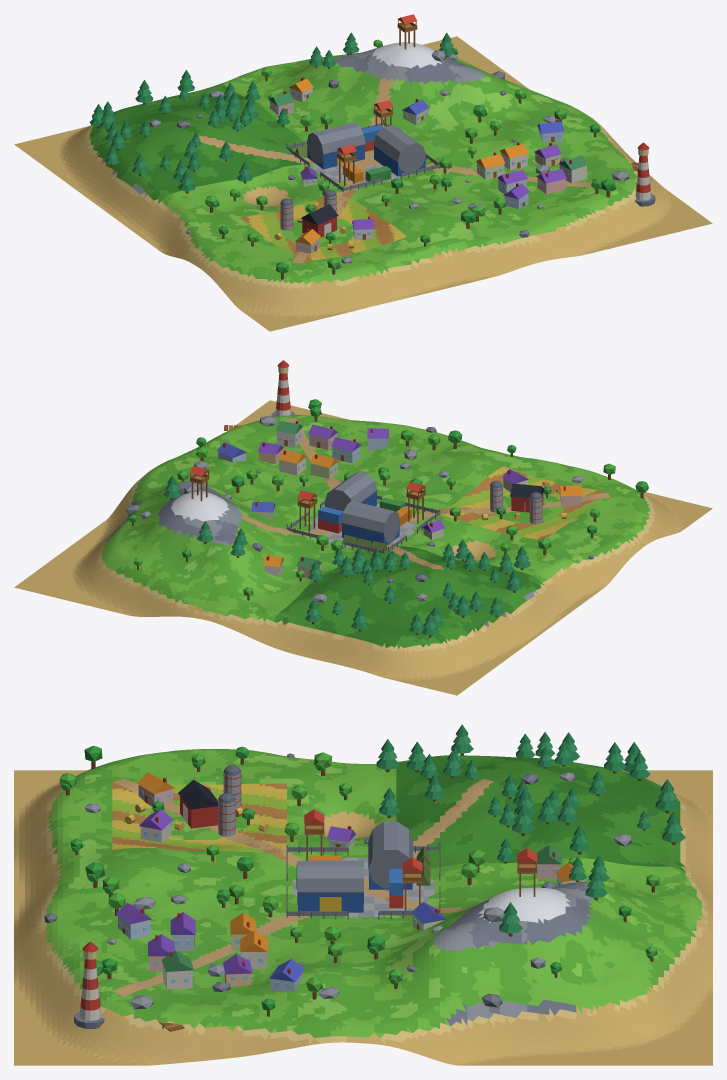
The model's file is island.glb.
3 views of the same model, one above another, from view 1: azimuth 30°, elevation 25°; view 2: azimuth 150°, elevation 25°; view 3: azimuth 270°, elevation 25° (orthographic). The views are drawn at different scales.
Parts seen in each view (by area): view 1: BR_Terrain, BR_Props; view 2: BR_Terrain, BR_Props; view 3: BR_Terrain, BR_Props.
Boxes of the visible parts, left/top/right/bottom form: BR_Terrain: left=14, top=36, right=712, bottom=331; BR_Props: left=89, top=14, right=655, bottom=279; BR_Terrain: left=14, top=400, right=712, bottom=695; BR_Props: left=126, top=360, right=648, bottom=637; BR_Terrain: left=14, top=749, right=712, bottom=1065; BR_Props: left=44, top=724, right=685, bottom=1031.
Size of the model in its own units: 128 by 27.31 by 128.
